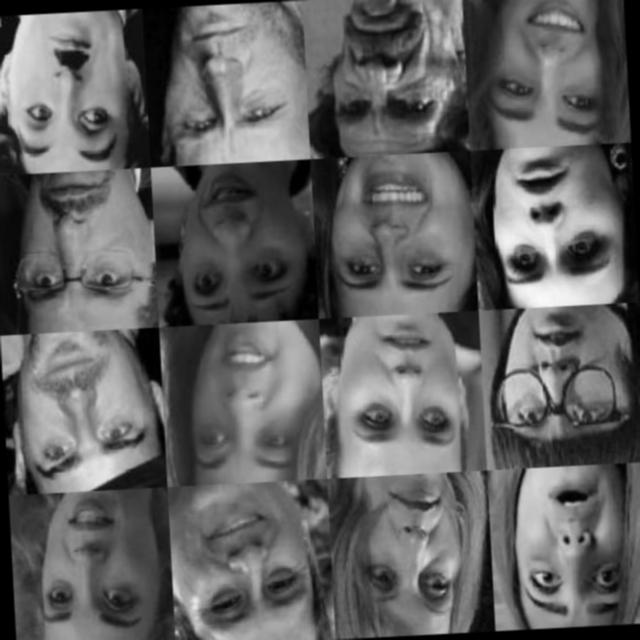angry: (170, 1, 298, 158), (330, 0, 457, 141)
fear: (484, 304, 634, 462), (175, 164, 304, 306), (514, 472, 640, 617), (499, 158, 620, 298)
happy: (177, 317, 314, 478), (2, 9, 138, 164), (17, 323, 156, 473), (329, 162, 472, 303), (177, 491, 324, 628), (33, 494, 162, 640), (486, 0, 612, 141)
neutral: (339, 479, 491, 629), (14, 172, 154, 316), (339, 314, 471, 458)
